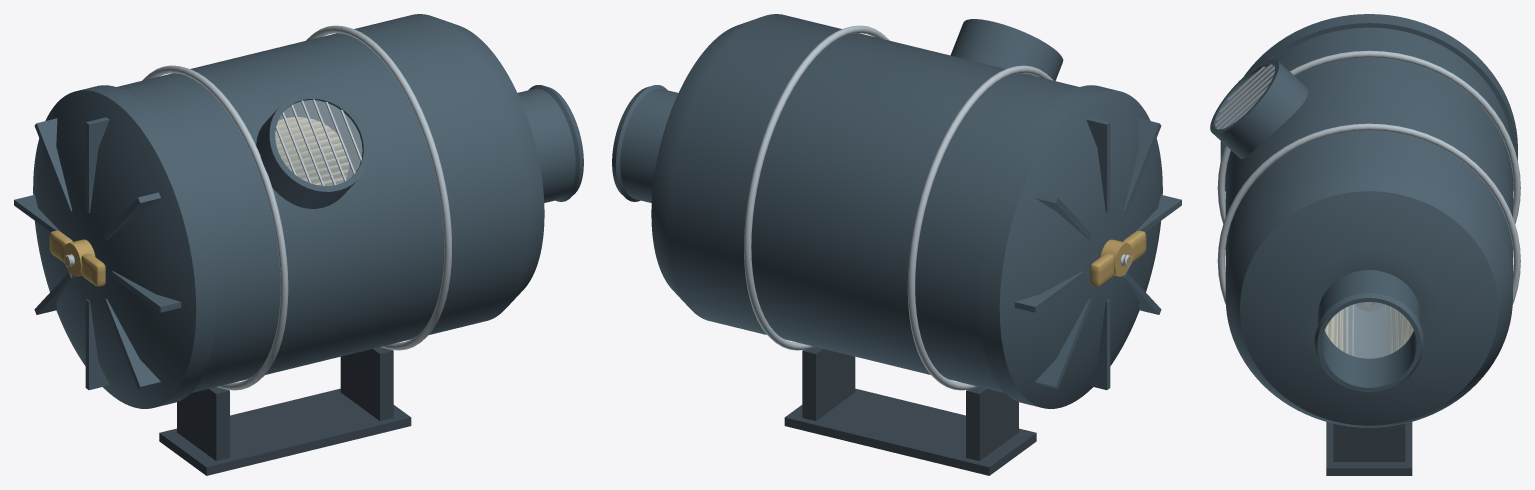
The model's file is air-filter.glb.
3 renders of one model, left to right at view 1: azimuth 30°, elevation 25°; view 2: azimuth 150°, elevation 25°; view 3: azimuth 270°, elevation 25°, orthographic. The views are drawn at different scales.
Visible parts, largest first — view 1: Vỏ có cổ ra, Vỏ nắp, Chân bắt, Đai ôm (×2), Lưới chắn cửa vào, Giấy xếp nếp, Đai ốc tai; view 2: Vỏ có cổ ra, Vỏ nắp, Chân bắt, Đai ôm (×2), Đai ốc tai; view 3: Vỏ có cổ ra, Đai ôm (×2), Chân bắt, Vỏ nắp, Ống lưới trong, Lưới chắn cửa vào, Giấy xếp nếp.
Boxes of the visible parts, x1,y1,x2,y2 form: Vỏ có cổ ra: [117, 14, 583, 392]; Vỏ nắp: [14, 85, 216, 408]; Chân bắt: [159, 347, 411, 475]; Đai ôm (×2): [142, 25, 451, 390]; Lưới chắn cửa vào: [275, 99, 362, 185]; Giấy xếp nếp: [275, 117, 348, 185]; Đai ốc tai: [49, 230, 105, 286]; Vỏ có cổ ra: [612, 14, 1078, 392]; Vỏ nắp: [979, 85, 1181, 408]; Chân bắt: [784, 347, 1036, 475]; Đai ôm (×2): [744, 25, 1053, 390]; Đai ốc tai: [1090, 230, 1146, 286]; Vỏ có cổ ra: [1210, 27, 1512, 427]; Đai ôm (×2): [1217, 50, 1520, 304]; Chân bắt: [1326, 422, 1412, 475]; Vỏ nắp: [1220, 14, 1517, 191]; Ống lưới trong: [1325, 304, 1413, 358]; Lưới chắn cửa vào: [1215, 64, 1274, 129]; Giấy xếp nếp: [1325, 305, 1413, 355].
Bounding box in the file's own units: 3.58 × 2.69 × 2.16.
